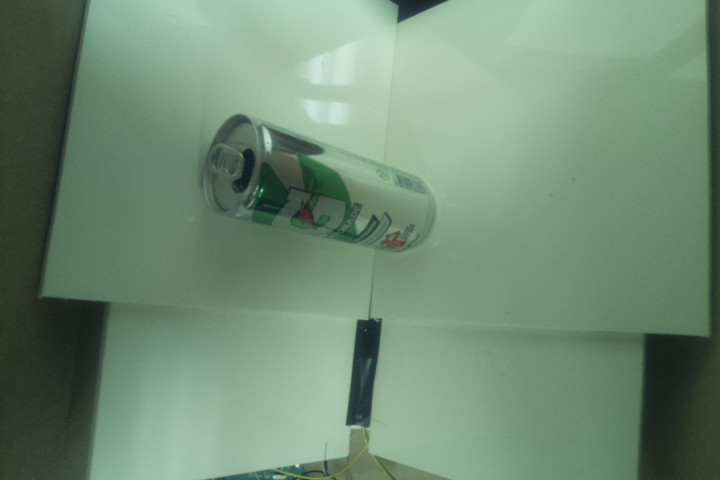can: (196, 111, 434, 253)
